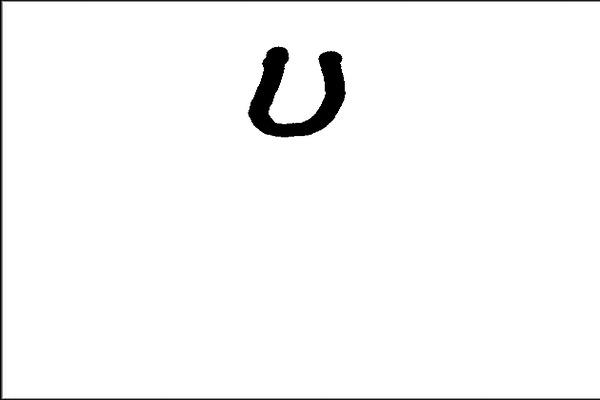U: (231, 36, 363, 137)
